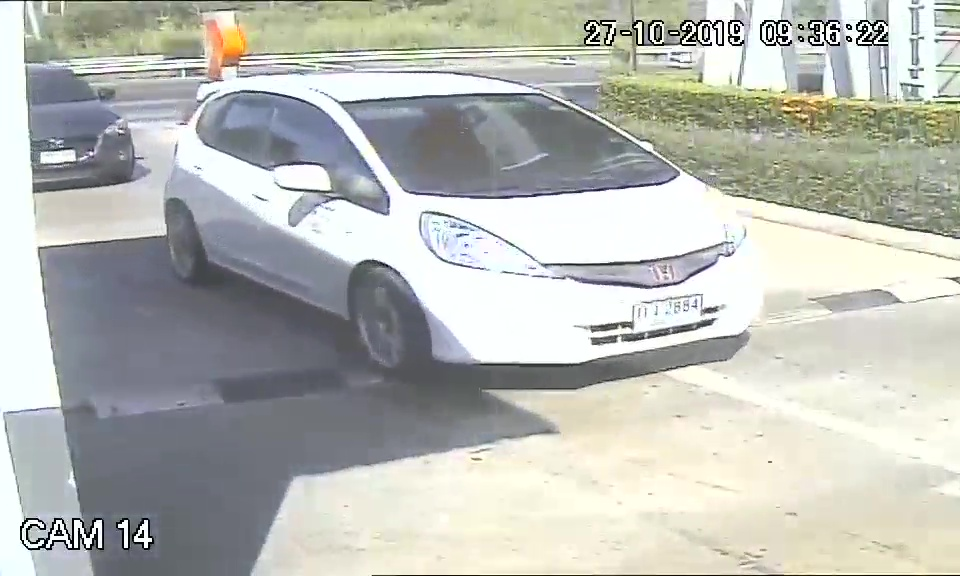sedan: (157, 61, 767, 376)
